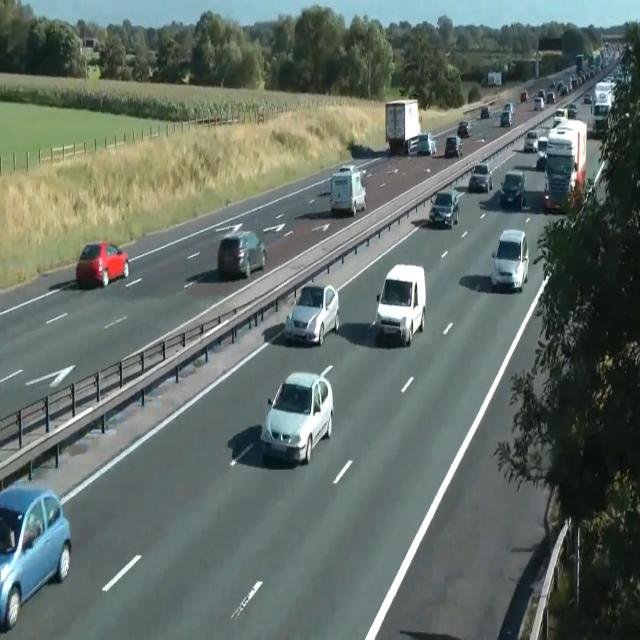bus: (0, 484, 72, 632), (284, 282, 340, 346), (75, 241, 129, 289), (217, 228, 265, 278), (585, 157, 611, 208), (468, 163, 493, 193), (417, 132, 436, 156), (444, 135, 463, 157), (524, 130, 538, 152), (553, 107, 568, 127), (457, 121, 472, 138), (564, 102, 578, 118), (500, 110, 512, 127), (408, 136, 418, 156), (480, 105, 492, 118), (504, 102, 514, 116), (339, 164, 356, 172), (546, 92, 555, 104), (584, 93, 592, 103), (520, 91, 527, 102)
jeep: (260, 364, 334, 464), (375, 262, 426, 346), (490, 228, 529, 292), (428, 190, 459, 228), (499, 169, 525, 209), (590, 101, 610, 135), (536, 133, 548, 167)
minibus: (543, 119, 587, 214), (385, 98, 421, 154), (329, 165, 366, 216), (590, 81, 616, 137), (588, 50, 602, 70), (488, 71, 502, 85), (575, 53, 583, 74)
